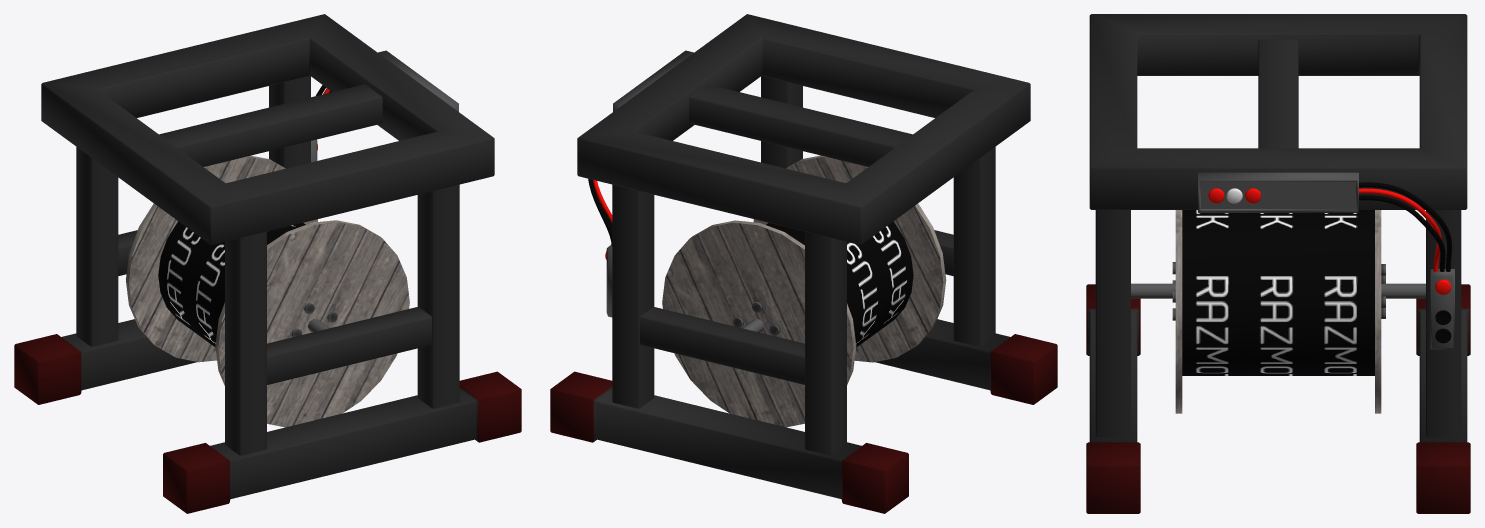
Rendered from CableStable.fbx.
The picture shows the model from 3 angles, left to right: view 1: azimuth 30°, elevation 25°; view 2: azimuth 150°, elevation 25°; view 3: azimuth 270°, elevation 25°; orthographic projection. The views are drawn at different scales.
Parts seen in each view (by area): view 1: CableStable, CableRotate; view 2: CableStable, CableRotate; view 3: CableStable, CableRotate.
Boxes of the visible parts, x1=… form: CableStable: x1=14, y1=14, x2=521, y2=513; CableRotate: x1=126, y1=155, x2=409, y2=427; CableStable: x1=550, y1=14, x2=1057, y2=513; CableRotate: x1=662, y1=155, x2=946, y2=427; CableStable: x1=1086, y1=14, x2=1470, y2=513; CableRotate: x1=1172, y1=210, x2=1385, y2=413.
Bounding box in the file's own units: 121 × 104 × 108.
